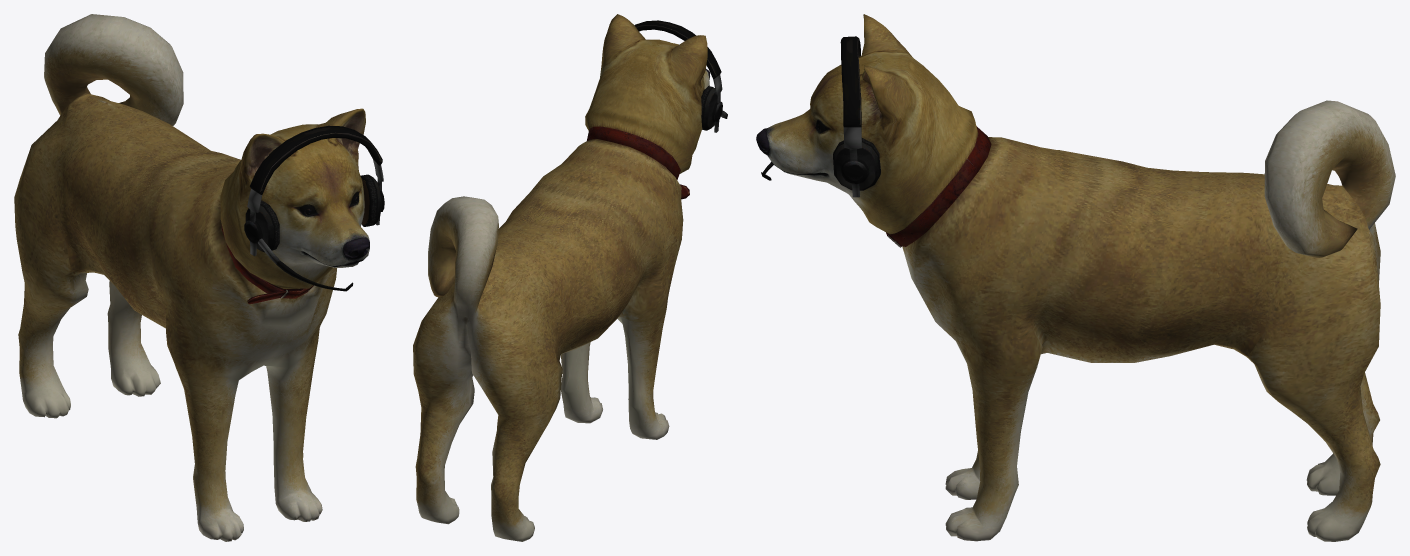
File: doge.glb
3 renders of one model, left to right at view 1: azimuth 30°, elevation 25°; view 2: azimuth 150°, elevation 25°; view 3: azimuth 270°, elevation 25°, orthographic. The views are drawn at different scales.
Parts seen in each view (by area): view 1: Object_3, Object_2; view 2: Object_3, Object_2; view 3: Object_3, Object_2.
Part boxes in pixels (x1,y1,x2,y2): Object_3: [14, 14, 382, 541]; Object_2: [220, 108, 384, 288]; Object_3: [413, 20, 727, 541]; Object_2: [585, 14, 726, 173]; Object_3: [761, 36, 1395, 541]; Object_2: [756, 14, 978, 234].
Size of the model in its own units: 0.2771 by 0.756 by 0.9293.
2 materials, 2 textured.
